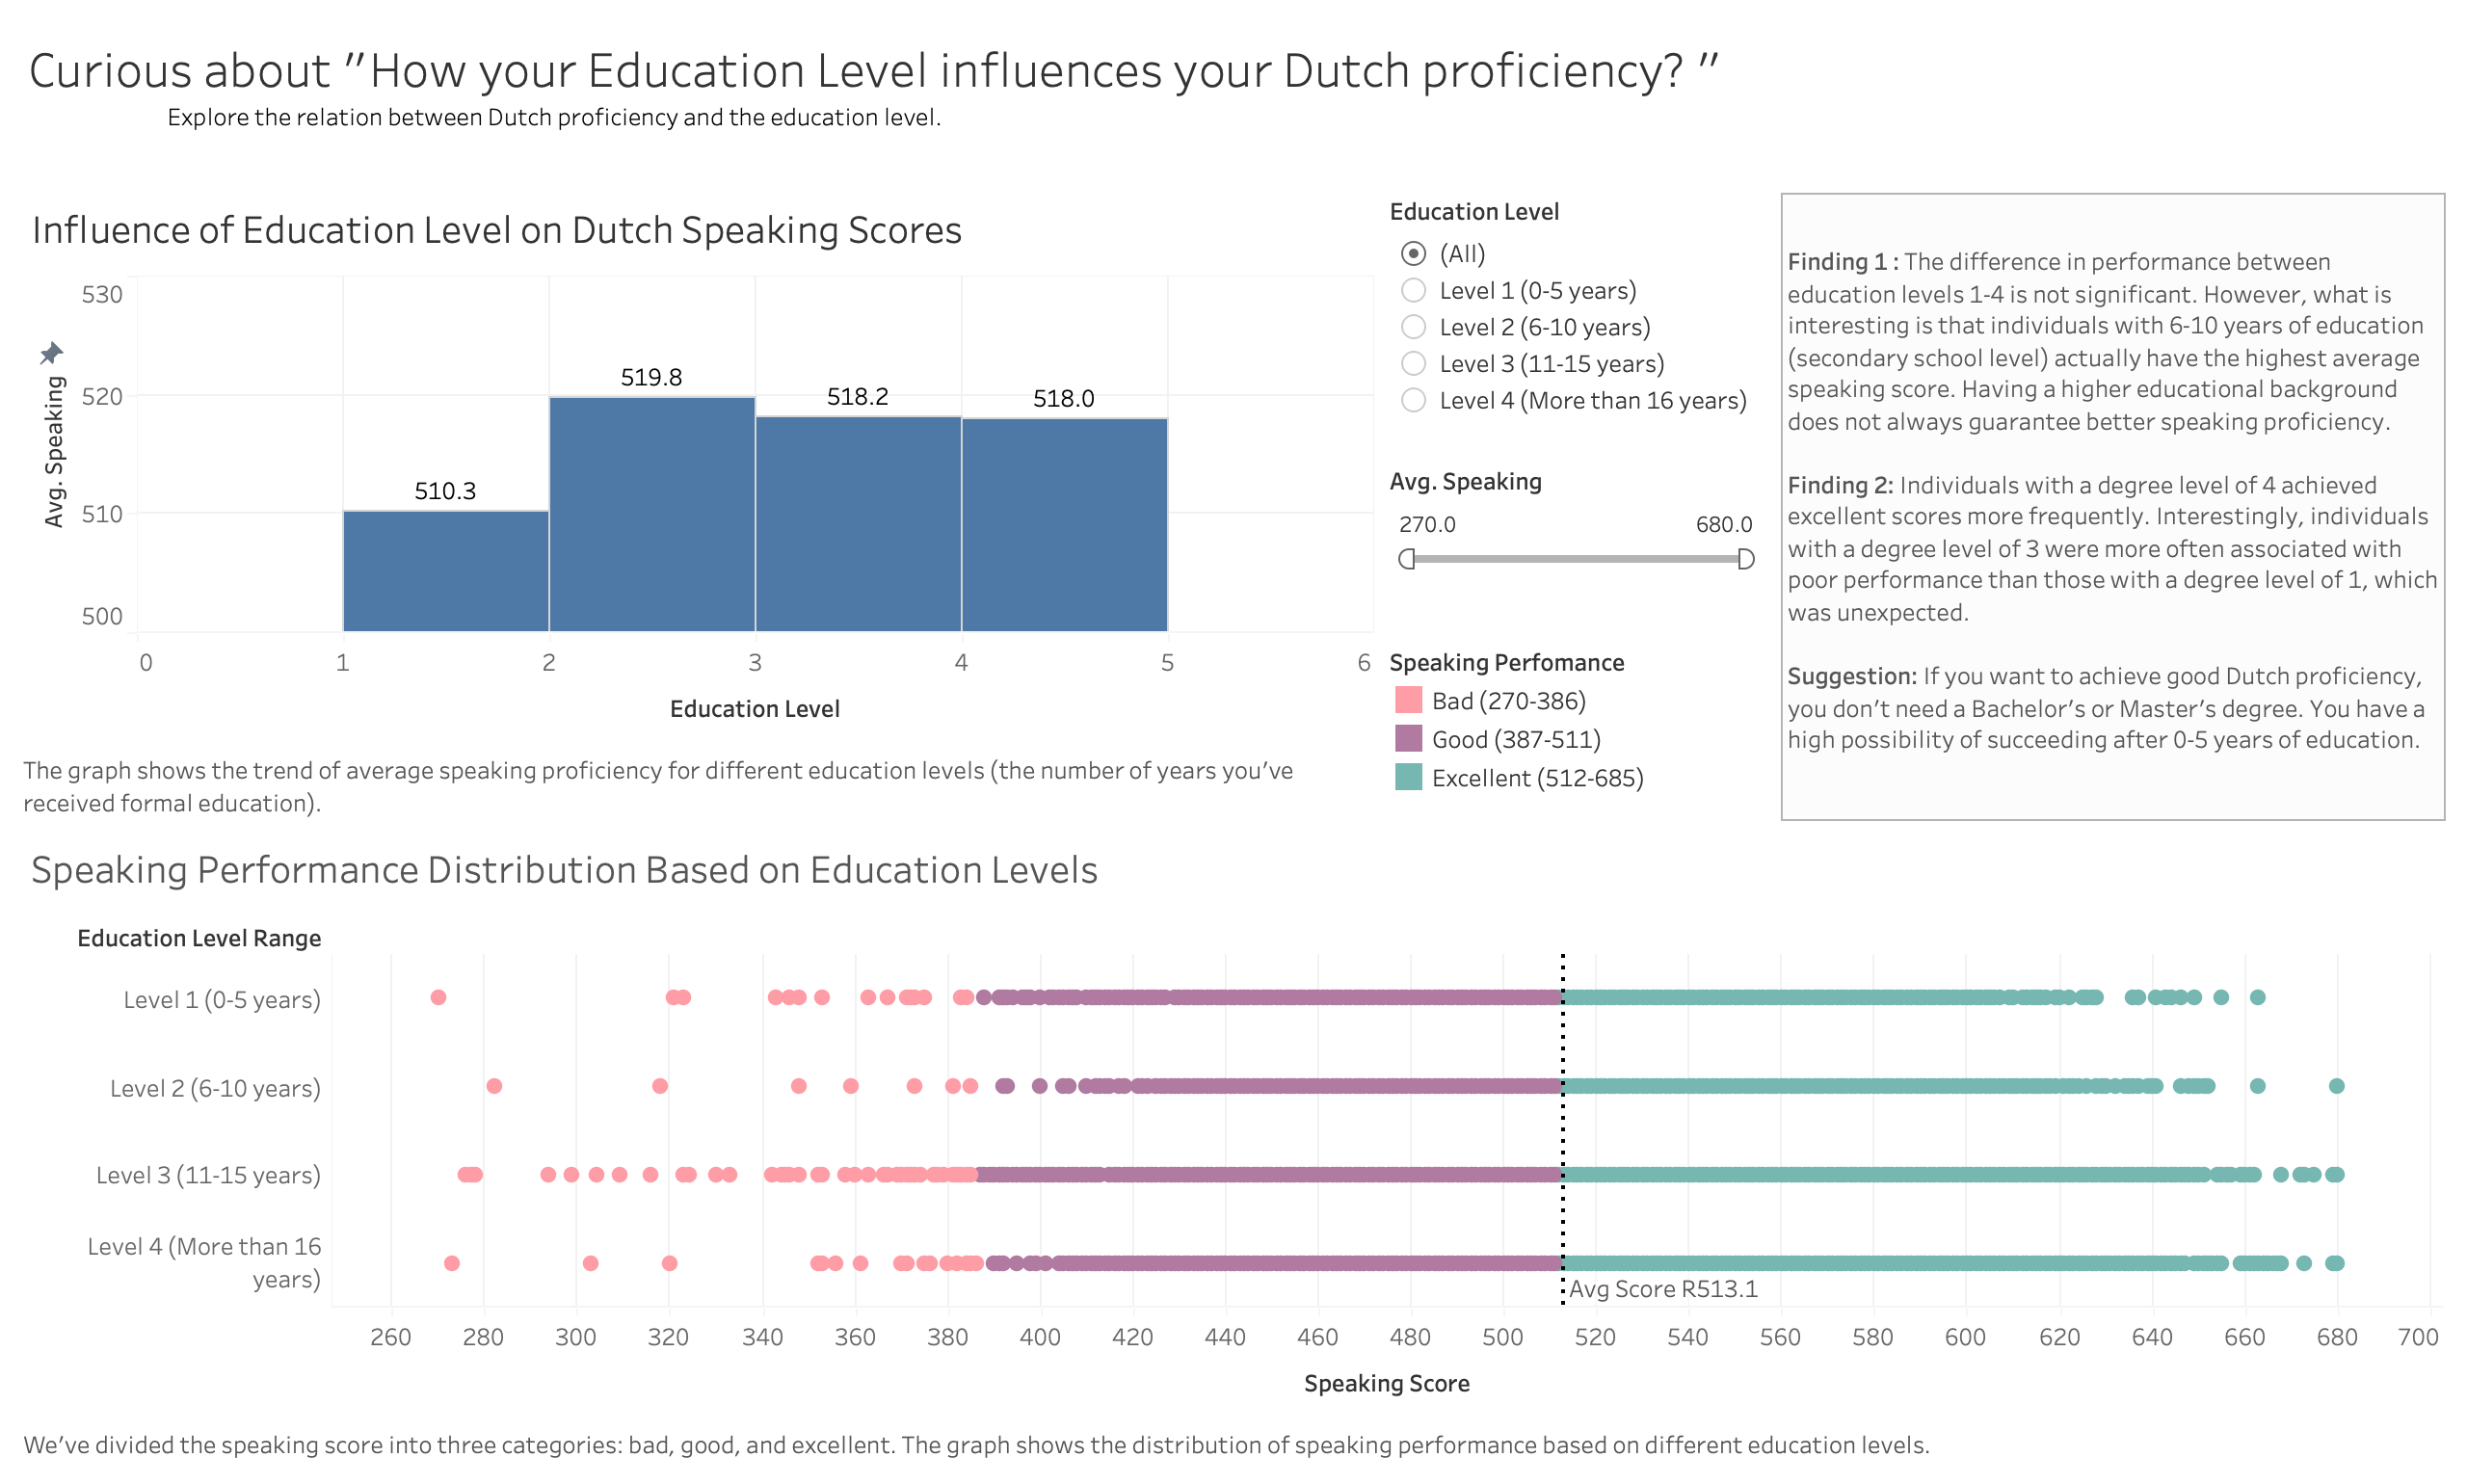

The page's visual inventory and layout, read from the dashboard file:
{"tool":"tableau","page":{"name":"Dashboard 6","canvas":[1000,1000],"units":"permille","ordinal":5},"visuals":[{"type":"text","box":[6.2,10.4,987.5,115.5]},{"type":"worksheet","title":"edu/speaking","mark":"Bar","rows":["Speaking"],"cols":["Edu.day"],"box":[6.2,125.9,554,431.4]},{"type":"parameter","param":"[Parameters].[Age-Range1 (copy)_2114158585074184193 3 1]","box":[560.2,125.9,159.4,182.2]},{"type":"text","box":[719.6,125.9,274.1,431.4]},{"type":"filter","title":"distribution/edu","param":"[federated.1vhxzma1vfckmp1bi80181q941ae (copy 5)].[avg:Speaking:qk]","box":[560.2,308.1,159.4,121.6]},{"type":"legend","title":"distribution/edu","param":"[federated.1vhxzma1vfckmp1bi80181q941ae (copy 5)].[none:Calculation_216222043807","box":[560.2,429.7,159.4,127.6]},{"type":"worksheet","title":"distribution/edu","mark":"Circle","rows":["Education Level (copy)_2509208715952279555 3"],"cols":["Speaking"],"box":[6.2,557.3,987.5,432.4]}]}

Visuals, with their boxes on the dashboard's canvas, which has no fixed pixel size, in thousandths of its width and height (x1, y1, x2, y2). These are canvas units, not pixel positions in the 2467x1484 screenshot, which may show the page scaled, cropped or inside an application window:
text: region(6, 10, 994, 126)
"edu/speaking" worksheet (Bar marks): region(6, 126, 560, 557)
parameter: region(560, 126, 720, 308)
text: region(720, 126, 994, 557)
"distribution/edu" filter: region(560, 308, 720, 430)
"distribution/edu" legend: region(560, 430, 720, 557)
"distribution/edu" worksheet (Circle marks): region(6, 557, 994, 990)
